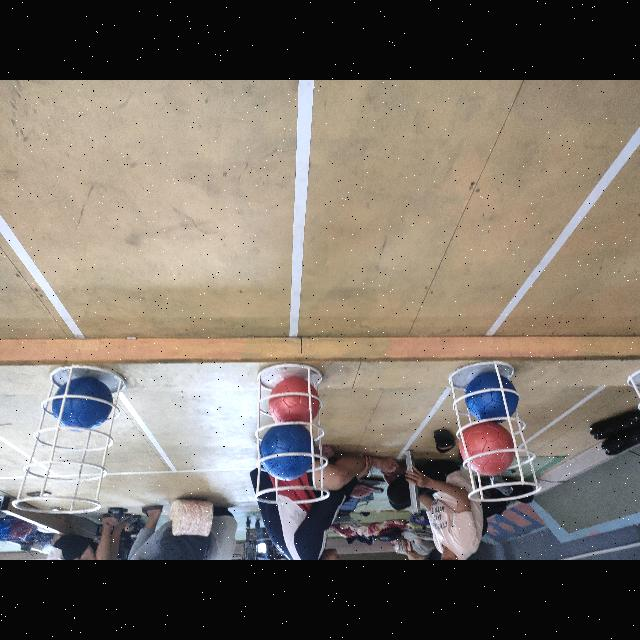B: (52, 378, 114, 432), (258, 422, 314, 480), (466, 372, 518, 423)
R: (460, 420, 514, 478), (268, 377, 320, 428)
